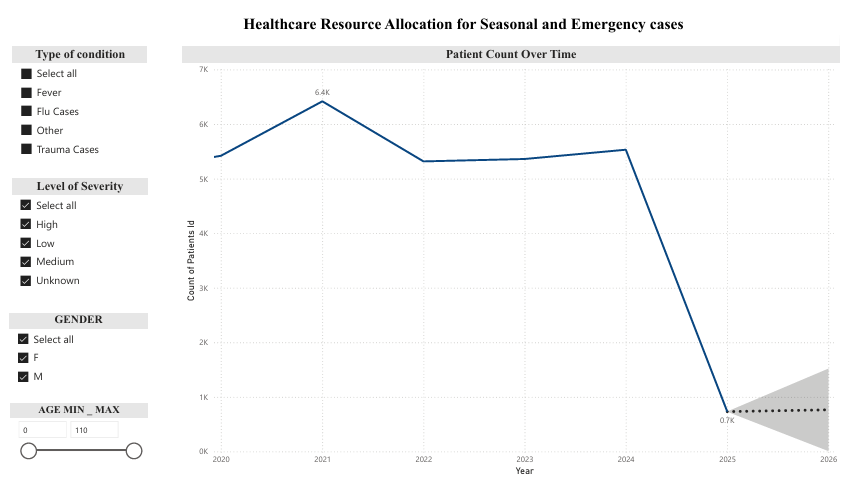

Layout of this report page (visuals, bound fields, positions):
{"tool":"powerbi","page":{"name":"Forecasting Method","canvas":[1280,720],"ordinal":2},"visuals":[{"type":"lineChart","title":"Patient Count Over Time","fields":{"Category":["encounters.Date.Variation.Date Hierarchy.Year","encounters.Date.Variation.Date Hierarchy.Quarter","encounters.Date.Variation.Date Hierarchy.Month","encounters.Date.Variation.Date Hierarchy.Day"],"Y":["CountNonNull(encounters.Patients Id)"]},"box":[265.7,53.1,1014.9,666.9],"z":0},{"type":"slicer","title":"Type of condition","fields":{"Values":["conditions.Type of Condition"]},"box":[5,53.3,208.3,186.7],"z":1000},{"type":"slicer","title":"GENDER","fields":{"Values":["patients.GENDER"]},"box":[0,463.6,212.5,127.5],"z":5000},{"type":"slicer","title":"AGE MIN _ MAX","fields":{"Values":["patients.AGE"]},"box":[1.3,603.1,211.2,98.3],"z":6000},{"type":"textbox","box":[266,0,873.7,41.5],"z":7000},{"type":"slicer","title":"Level of Severity","fields":{"Values":["encounters.Level of Severity "]},"box":[4,256.4,208.6,178],"z":8000}]}

Visuals, with their boxes in screenshot pixels (x1, y1, x2, y2), scaled from the page's 1280x720 canvas onto the 846x482 screenshot:
"Patient Count Over Time" lineChart: <box>176,36,845,481</box>
"Type of condition" slicer: <box>3,36,141,161</box>
"GENDER" slicer: <box>0,310,140,396</box>
"AGE MIN _ MAX" slicer: <box>1,404,140,470</box>
textbox: <box>176,0,753,28</box>
"Level of Severity" slicer: <box>3,172,141,291</box>
